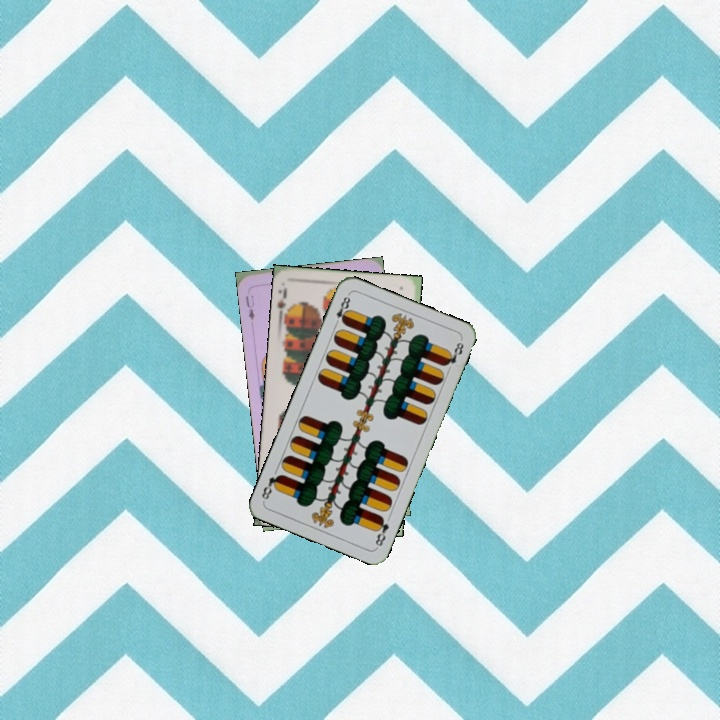E8: (330, 290, 353, 329), (371, 512, 391, 550)
EU: (241, 291, 257, 326)
S9: (274, 284, 294, 322)
